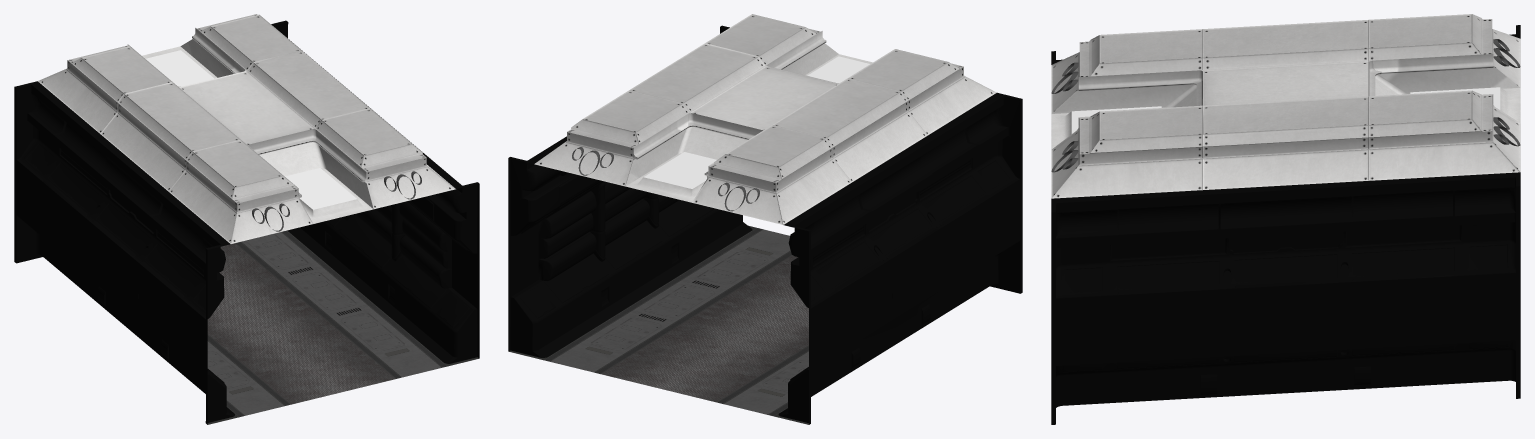
File: HallwayLean.fbx
3 renders of one model, left to right at view 1: azimuth 30°, elevation 25°; view 2: azimuth 150°, elevation 25°; view 3: azimuth 270°, elevation 25°, orthographic. The views are drawn at different scales.
Visible parts, largest first — view 1: HallwayLean001; view 2: HallwayLean001; view 3: HallwayLean001.
Boxes of the visible parts, x1=… form: HallwayLean001: x1=14, y1=14, x2=479, y2=424; HallwayLean001: x1=508, y1=14, x2=1022, y2=424; HallwayLean001: x1=1051, y1=14, x2=1520, y2=424.
Bounding box in the file's own units: 650 × 523 × 800.
